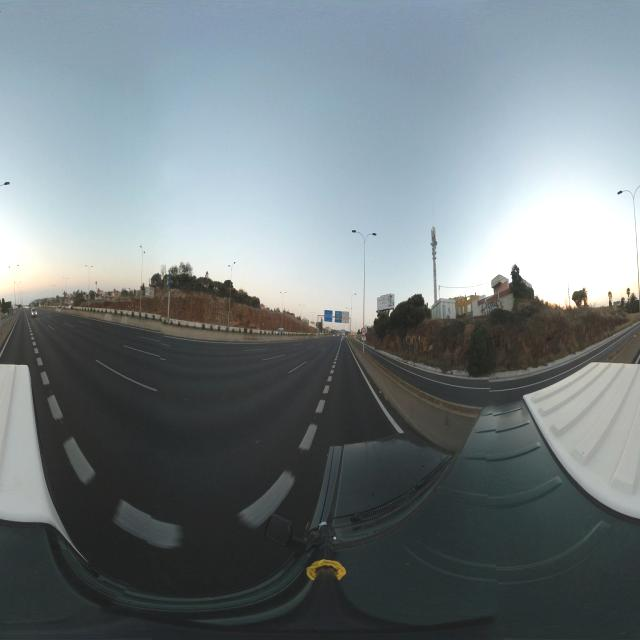car: (30, 308, 38, 318)
